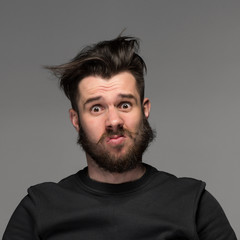young: (64, 32, 155, 174)
